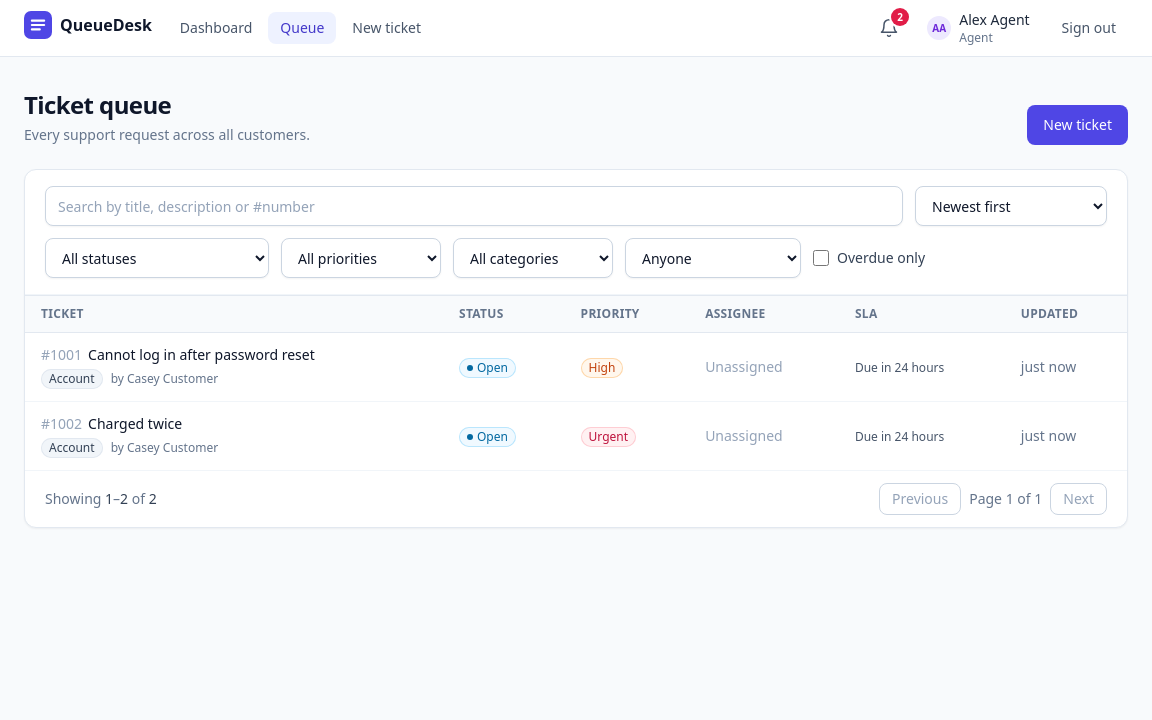
Test: notification bell › marks a notification read and opens its ticket when clicked
Click the button named "notifications".
click(889, 28)  # box [871,10,907,46]
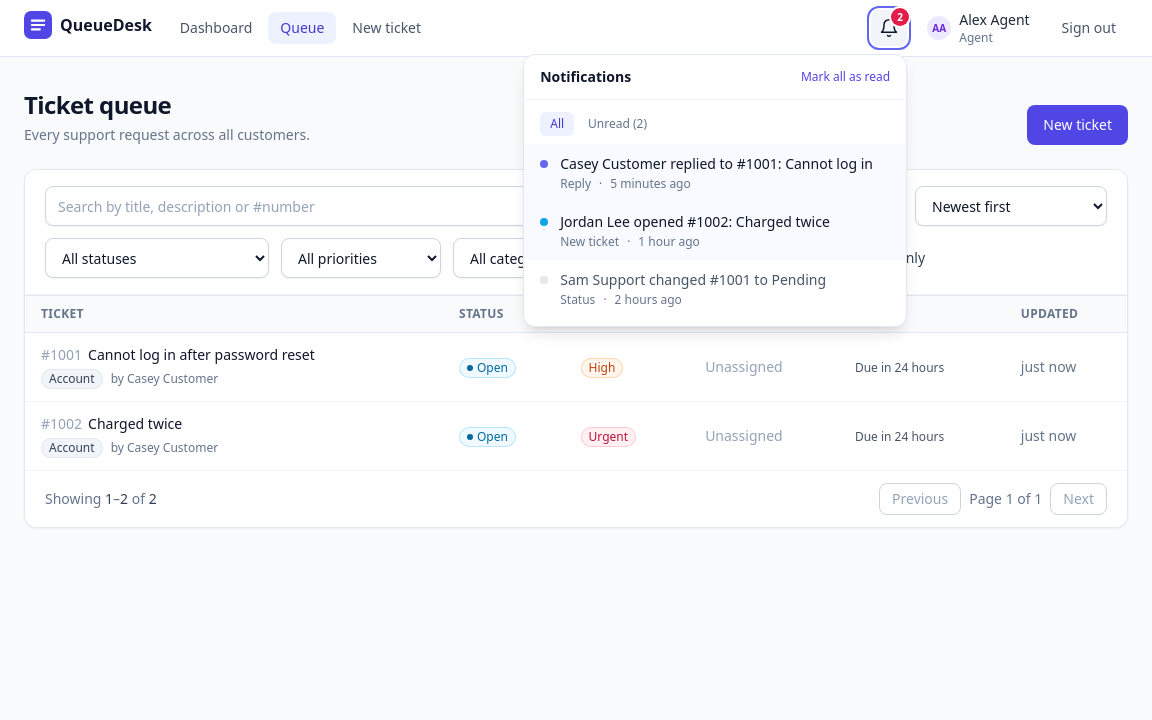
Click the text "Jordan Lee opened #1002: Charged twice".
click(695, 222)  # box [560,212,830,231]
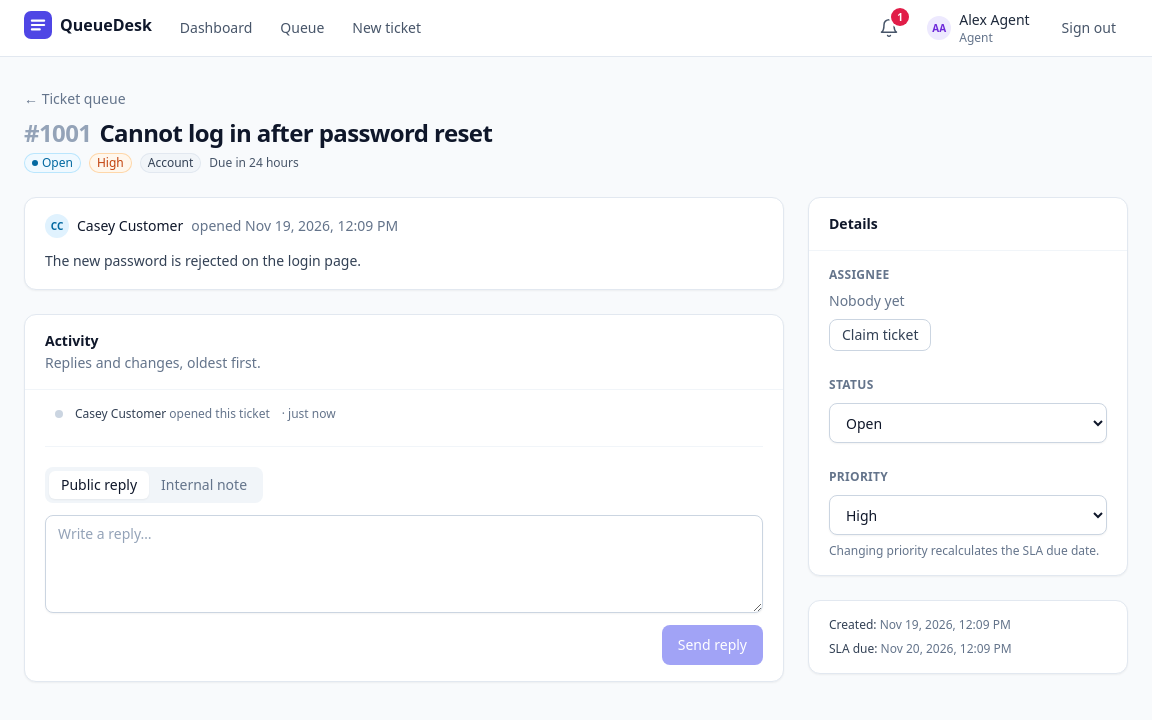
expect the heading "Notifications" is gone: met
expect the button named "Notifications, 1 unread" is shown: met, box [871,10,907,46]
